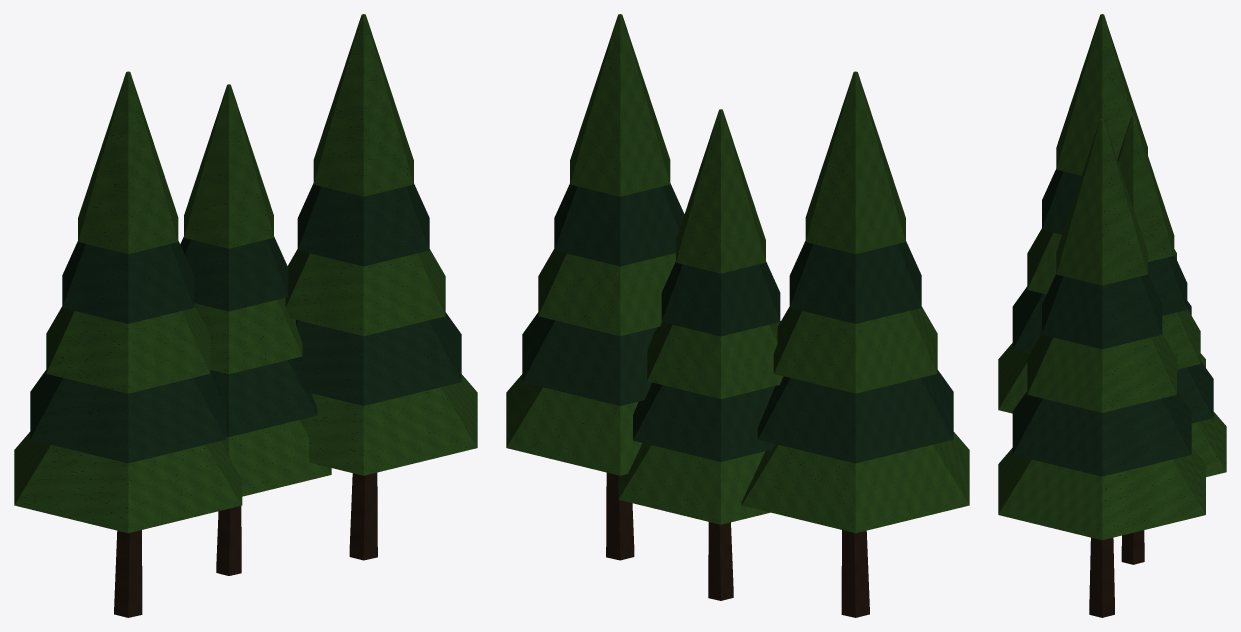
File: PROP-7425B681F110_lod2.glb
3 views of the same model, side by side, from view 1: azimuth 30°, elevation 25°; view 2: azimuth 150°, elevation 25°; view 3: azimuth 270°, elevation 25° (orthographic). The views are drawn at different scales.
Parts seen in each view (by area): view 1: layered_conifer_crown.012, layered_conifer_crown.013, trunk.007; view 2: layered_conifer_crown.012, layered_conifer_crown.013, trunk.007; view 3: layered_conifer_crown.012, layered_conifer_crown.013, trunk.007.
Boxes of the visible parts, <box> form: layered_conifer_crown.012: <box>14,14,477,533</box>; layered_conifer_crown.013: <box>30,183,461,463</box>; trunk.007: <box>114,472,377,617</box>; layered_conifer_crown.012: <box>506,14,969,533</box>; layered_conifer_crown.013: <box>522,183,953,463</box>; trunk.007: <box>606,472,869,617</box>; layered_conifer_crown.012: <box>998,14,1226,540</box>; layered_conifer_crown.013: <box>1012,169,1213,476</box>; trunk.007: <box>1089,530,1144,617</box>.
Size of the model in its own units: 7.87 by 8.75 by 3.68.
3 materials, 3 textured.
